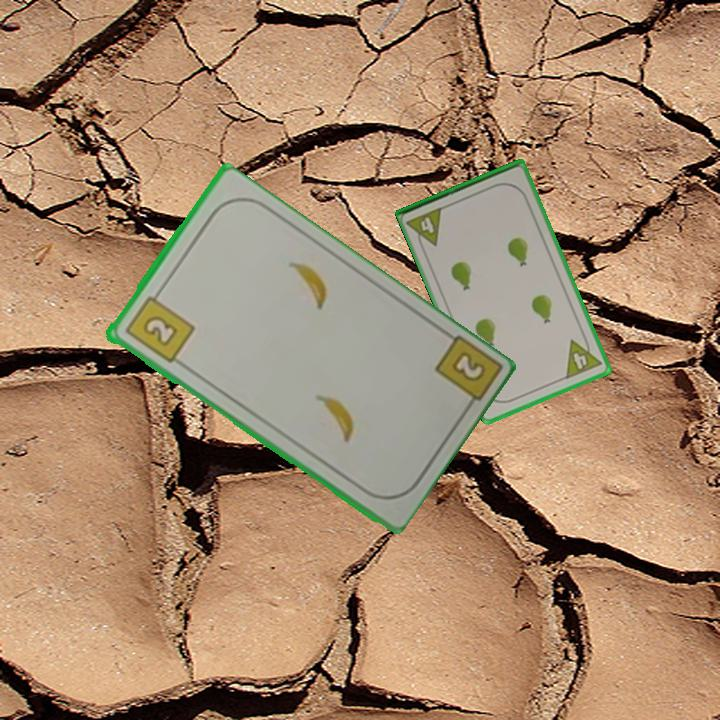2b: (121, 286, 197, 367), (430, 332, 501, 417)
4p: (562, 331, 604, 382), (404, 203, 446, 253)
